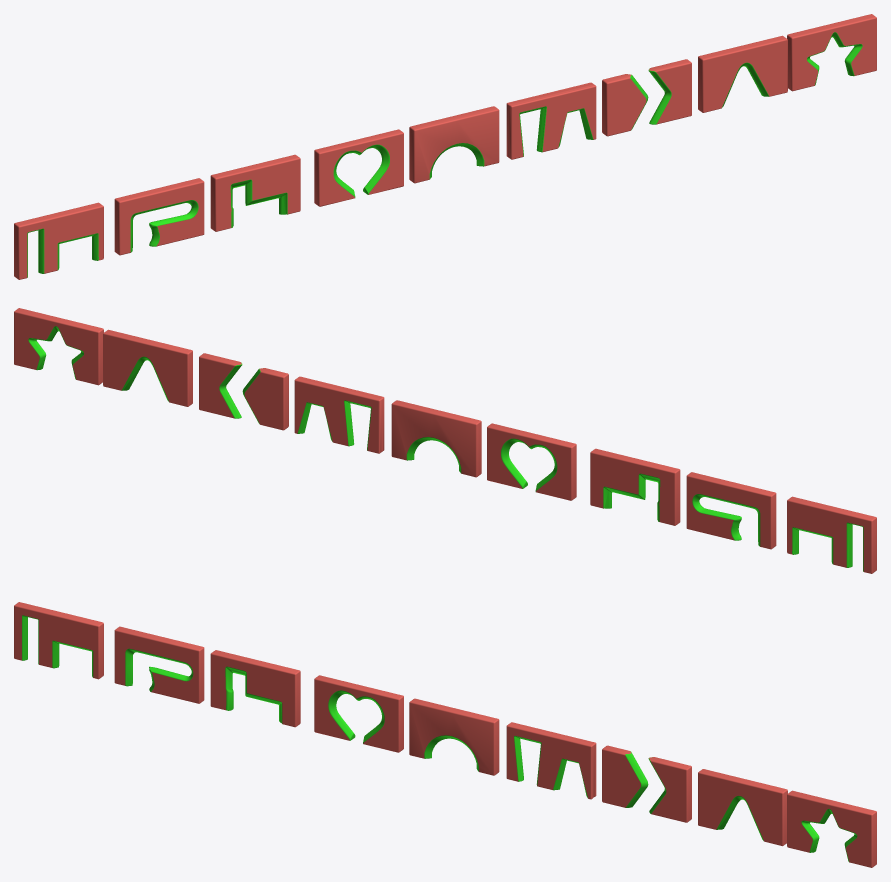
The model's file is OutlinedObst.fbx.
3 views of the same model, one above another, from view 1: azimuth 30°, elevation 25°; view 2: azimuth 150°, elevation 25°; view 3: azimuth 330°, elevation 25° (orthographic).
Parts seen in each view (by area): view 1: obst8.001, obst4.001, obst11.001, obst5.001, obst3.001, obst10.001, obst7.001, obst1.002, obst6.001; view 2: obst8.001, obst4.001, obst11.001, obst5.001, obst3.001, obst10.001, obst7.001, obst1.002, obst6.001; view 3: obst8.001, obst4.001, obst11.001, obst5.001, obst3.001, obst10.001, obst7.001, obst1.002, obst6.001.
Boxes of the visible parts, box(x1,y1,x2,y2) form: obst8.001: box(698, 35, 787, 112); obst4.001: box(602, 59, 691, 136); obst11.001: box(409, 106, 499, 183); obst5.001: box(114, 178, 204, 255); obst3.001: box(210, 154, 300, 231); obst10.001: box(787, 14, 876, 91); obst7.001: box(506, 82, 596, 159); obst1.002: box(314, 129, 403, 206); obst6.001: box(14, 202, 103, 279); obst8.001: box(103, 329, 192, 406); obst4.001: box(199, 353, 288, 430); obst11.001: box(391, 400, 481, 477); obst5.001: box(686, 472, 776, 549); obst3.001: box(590, 448, 680, 525); obst10.001: box(14, 308, 103, 385); obst7.001: box(294, 376, 384, 453); obst1.002: box(487, 423, 576, 500); obst6.001: box(787, 496, 876, 573); obst8.001: box(698, 769, 787, 846); obst4.001: box(602, 745, 691, 822); obst11.001: box(409, 698, 499, 775); obst5.001: box(114, 626, 204, 703); obst3.001: box(210, 650, 300, 727); obst10.001: box(787, 790, 876, 867); obst7.001: box(506, 722, 596, 799); obst1.002: box(314, 675, 403, 752); obst6.001: box(14, 602, 103, 679).
Size of the model in its own units: 10113 by 607 by 109.
